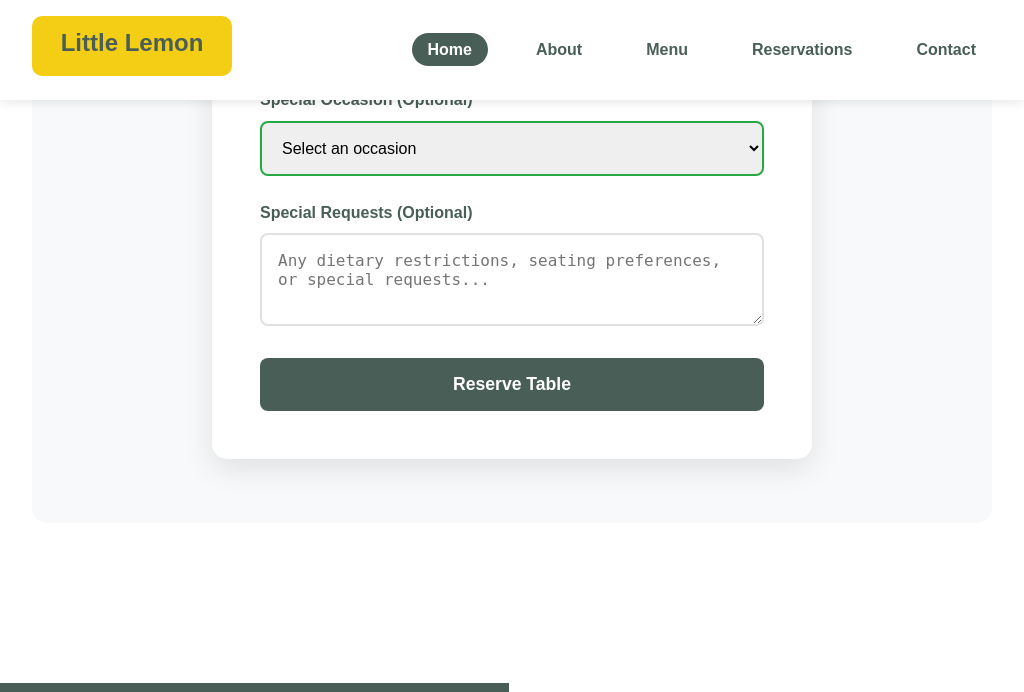
Test: Booking Form Functionality › shows validation errors for empty required fields
The width and height of the screenshot is (1024, 692).
(page scrolled)
Click the button "Reserve Table".
click(512, 384)  # box [260,358,764,411]
(page scrolled)
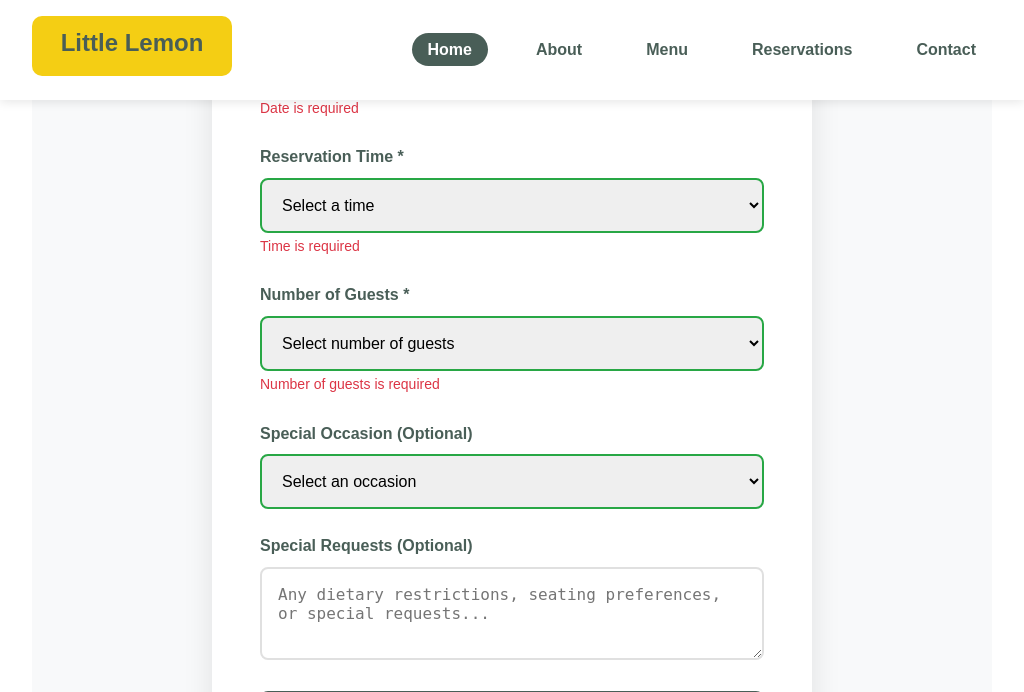
Result: the text "Date is required" is shown at [260,100,359,116]
Result: the text "Time is required" is shown at [260,238,360,254]
Result: the text "Number of guests is required" is shown at [260,376,440,392]
